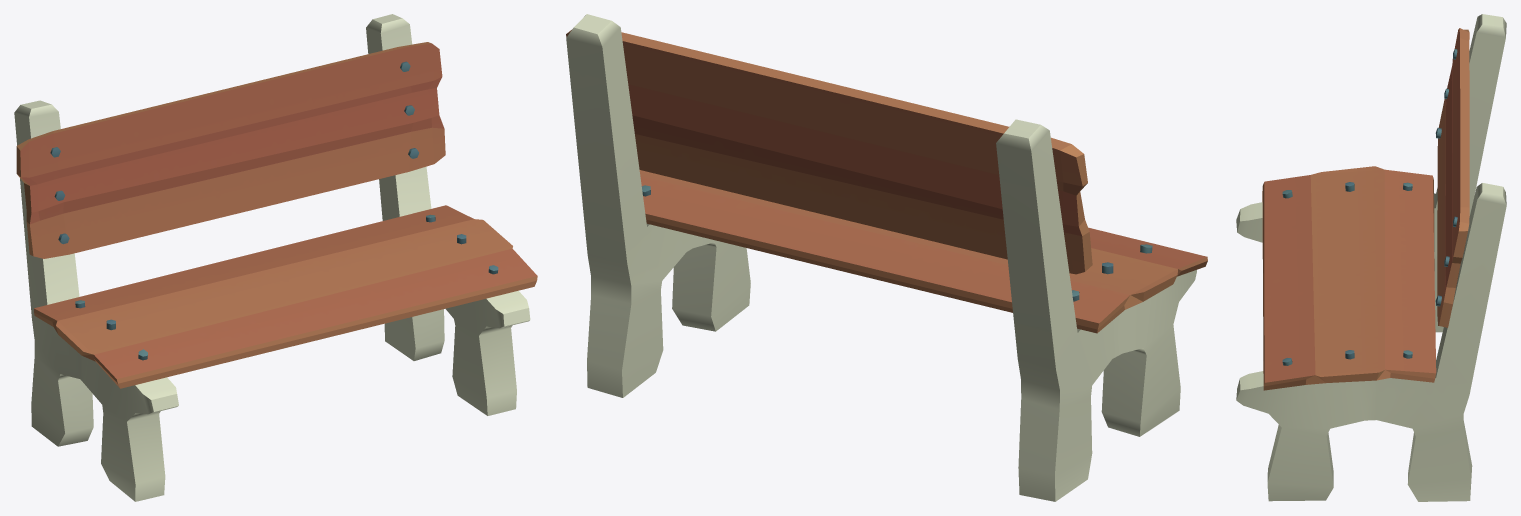
Rendered from PR_Bench.fbx.
3 renders of one model, left to right at view 1: azimuth 30°, elevation 25°; view 2: azimuth 150°, elevation 25°; view 3: azimuth 270°, elevation 25°, orthographic. The views are drawn at different scales.
Visible parts, largest first — view 1: PR_Bench; view 2: PR_Bench; view 3: PR_Bench.
Part boxes in pixels (left/top/right/bottom): PR_Bench: left=14, top=14, right=537, bottom=501; PR_Bench: left=566, top=14, right=1207, bottom=501; PR_Bench: left=1236, top=14, right=1506, bottom=501.
Bounding box in the file's own units: 176 × 122 × 97.36.
Materials: 1 (1 with a texture image).
